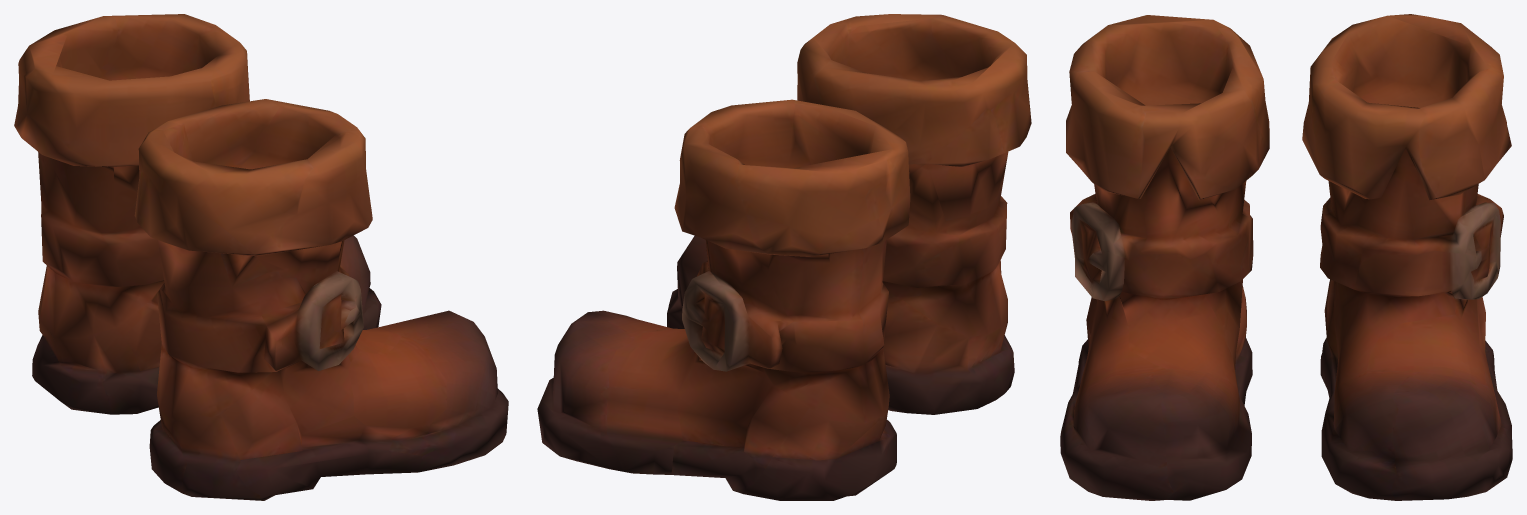
Rendered from loot_boots_leather-DKx8tl7h.glb.
3 renders of one model, left to right at view 1: azimuth 30°, elevation 25°; view 2: azimuth 150°, elevation 25°; view 3: azimuth 270°, elevation 25°, orthographic.
Parts seen in each view (by area): view 1: tripo_node_673ed3d3-6acc-4800-9e32-fdcdf252b904; view 2: tripo_node_673ed3d3-6acc-4800-9e32-fdcdf252b904; view 3: tripo_node_673ed3d3-6acc-4800-9e32-fdcdf252b904.
Part boxes in pixels (bbox=[...]): tripo_node_673ed3d3-6acc-4800-9e32-fdcdf252b904: bbox=[14, 14, 508, 500]; tripo_node_673ed3d3-6acc-4800-9e32-fdcdf252b904: bbox=[537, 14, 1031, 500]; tripo_node_673ed3d3-6acc-4800-9e32-fdcdf252b904: bbox=[1060, 14, 1512, 500].
Size of the model in its own units: 0.8694 by 0.8056 by 1.
1 material, 1 textured.
